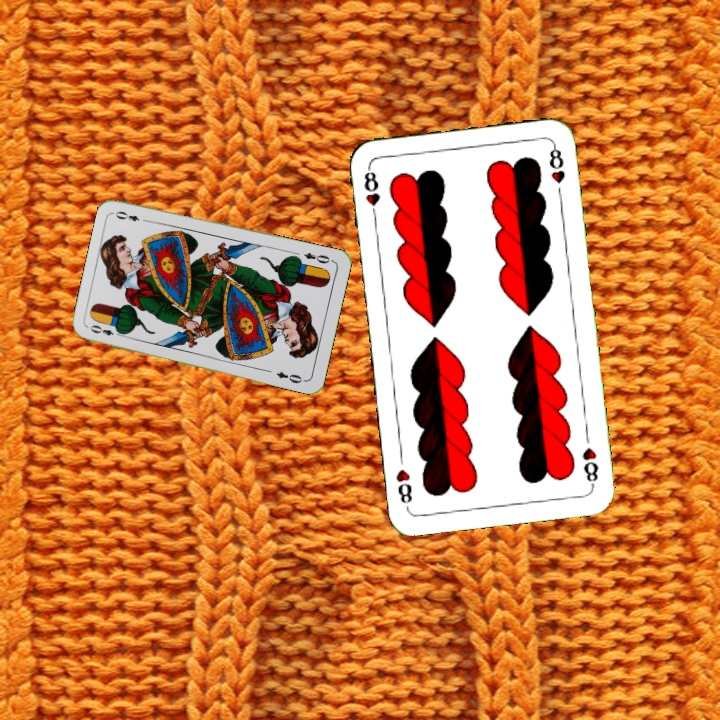EO: (86, 321, 125, 339), (300, 248, 336, 266)
H8: (360, 163, 382, 222), (578, 443, 601, 489)
